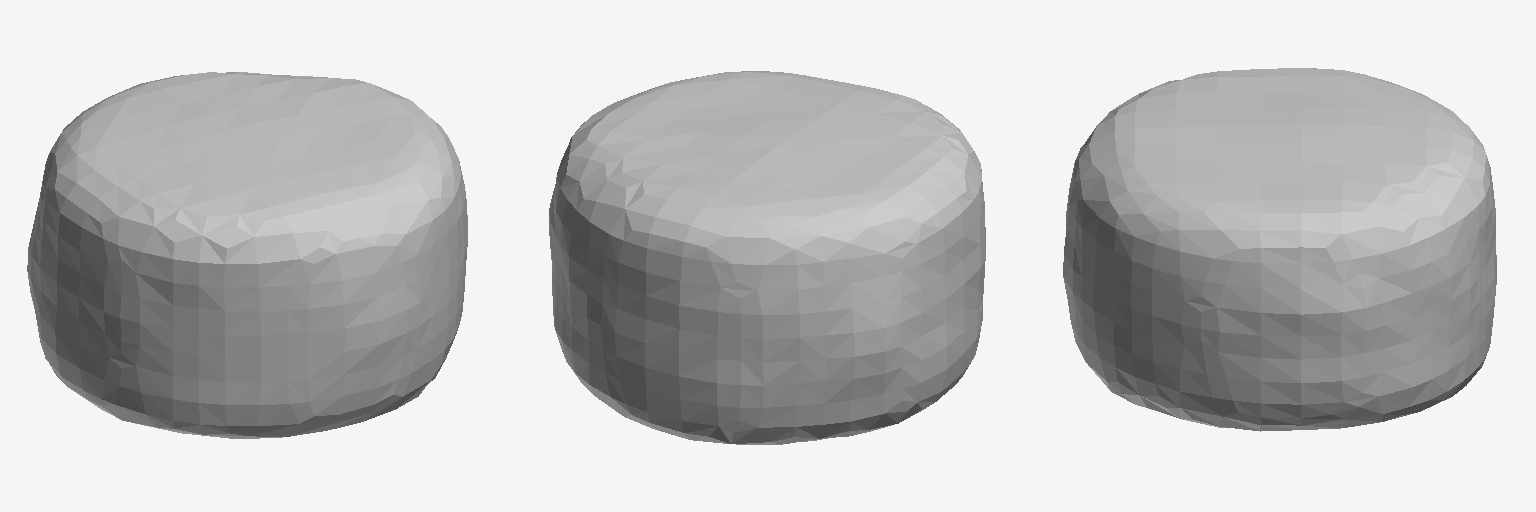
Rendered from bol_step_1.obj.
The picture shows the model from 3 angles: view 1: azimuth 30°, elevation 25°; view 2: azimuth 150°, elevation 25°; view 3: azimuth 270°, elevation 25°; orthographic projection.
Visible parts, largest first — view 1: Mesh.001; view 2: Mesh.001; view 3: Mesh.001.
Part boxes in pixels (x1,y1,x2,y2): Mesh.001: (27,72,467,438); Mesh.001: (549,71,985,444); Mesh.001: (1063,68,1496,431).
Bounding box in the file's own units: 2.93 × 1.81 × 2.9.